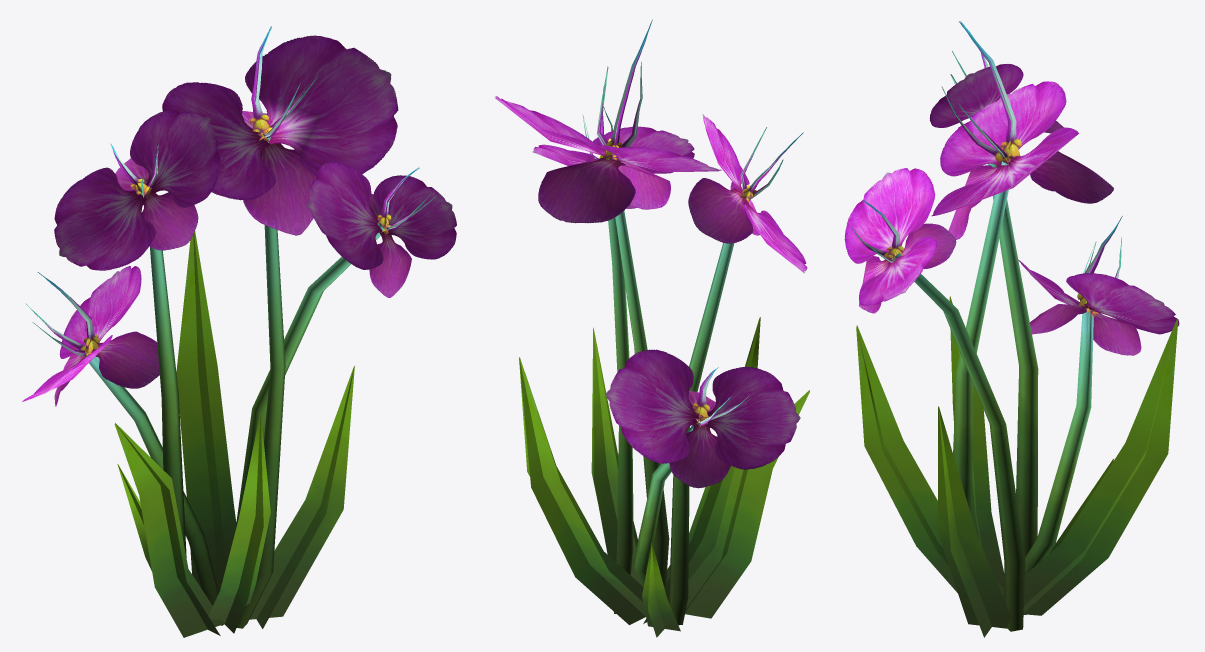
The model's file is chest_6.FBX.
3 renders of one model, left to right at view 1: azimuth 30°, elevation 25°; view 2: azimuth 150°, elevation 25°; view 3: azimuth 270°, elevation 25°, orthographic. The views are drawn at different scales.
Parts seen in each view (by area): view 1: chest_6; view 2: chest_6; view 3: chest_6.
Boxes of the visible parts, left/top/right/bottom form: chest_6: left=22, top=26, right=456, bottom=637; chest_6: left=494, top=19, right=809, bottom=637; chest_6: left=844, top=21, right=1179, bottom=637.
Size of the model in its own units: 30.42 by 50.46 by 25.91.
